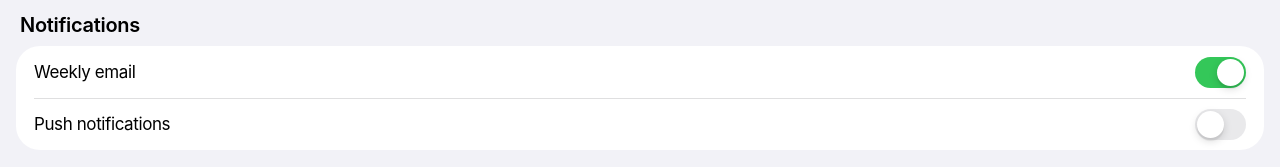
Test: NotificationsSection: push on this device › is off after signing back in on a device that was unsubscribed, and a tap subscribes it again
This screenshot has width=1280, height=167.
Click the switch named "Push notifications".
click(1220, 124)  # box [1195,108,1246,140]
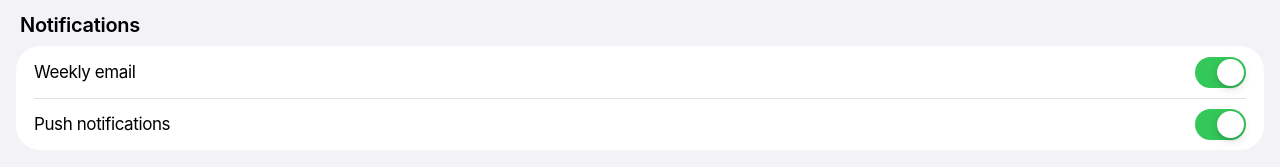
Check: the switch named "Push notifications" is checked, box [1195,108,1246,140]
